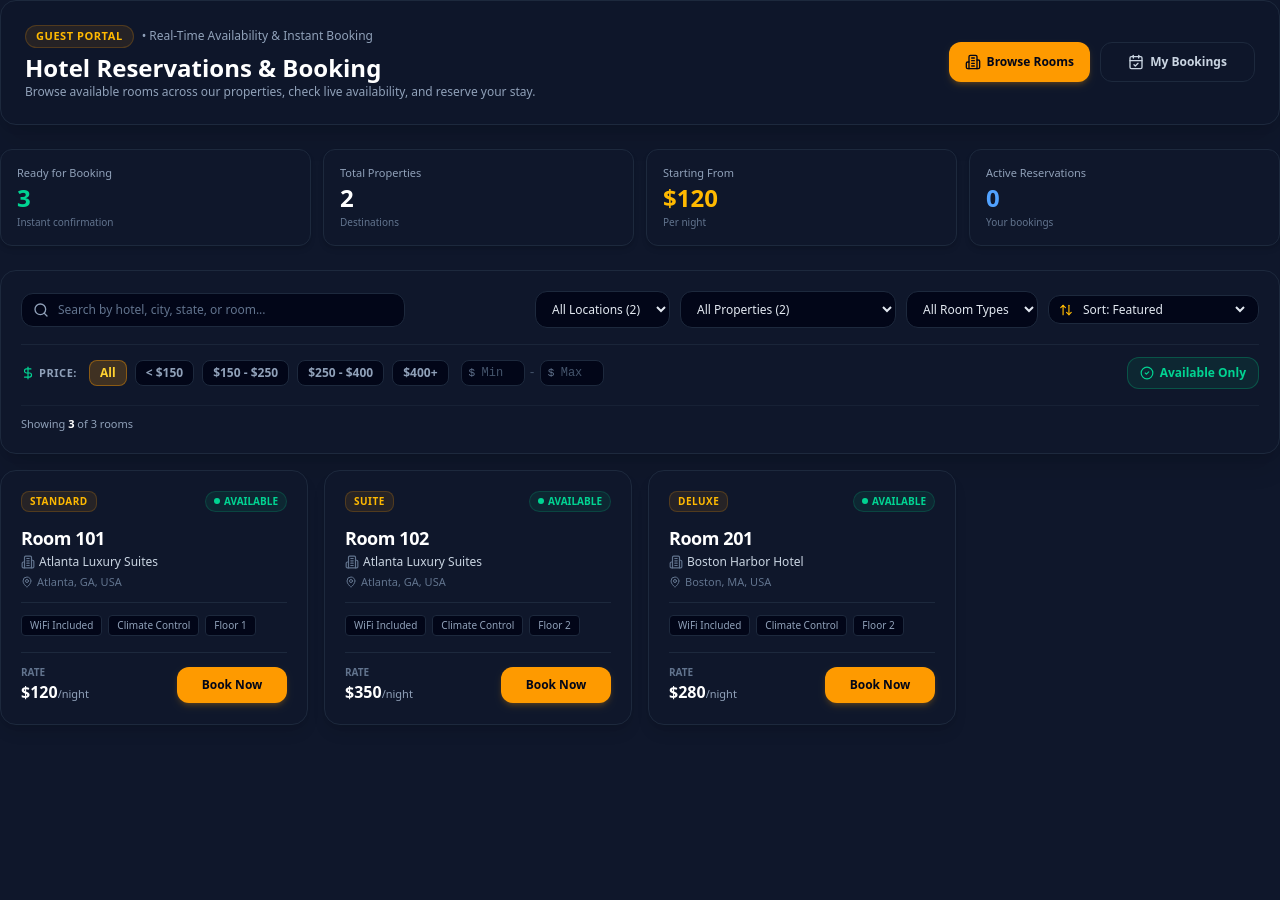
Scenario: GuestView Component Tests › filters rooms by price tier preset
Click the button "< $150".
click(164, 374)  # box [135,360,194,386]
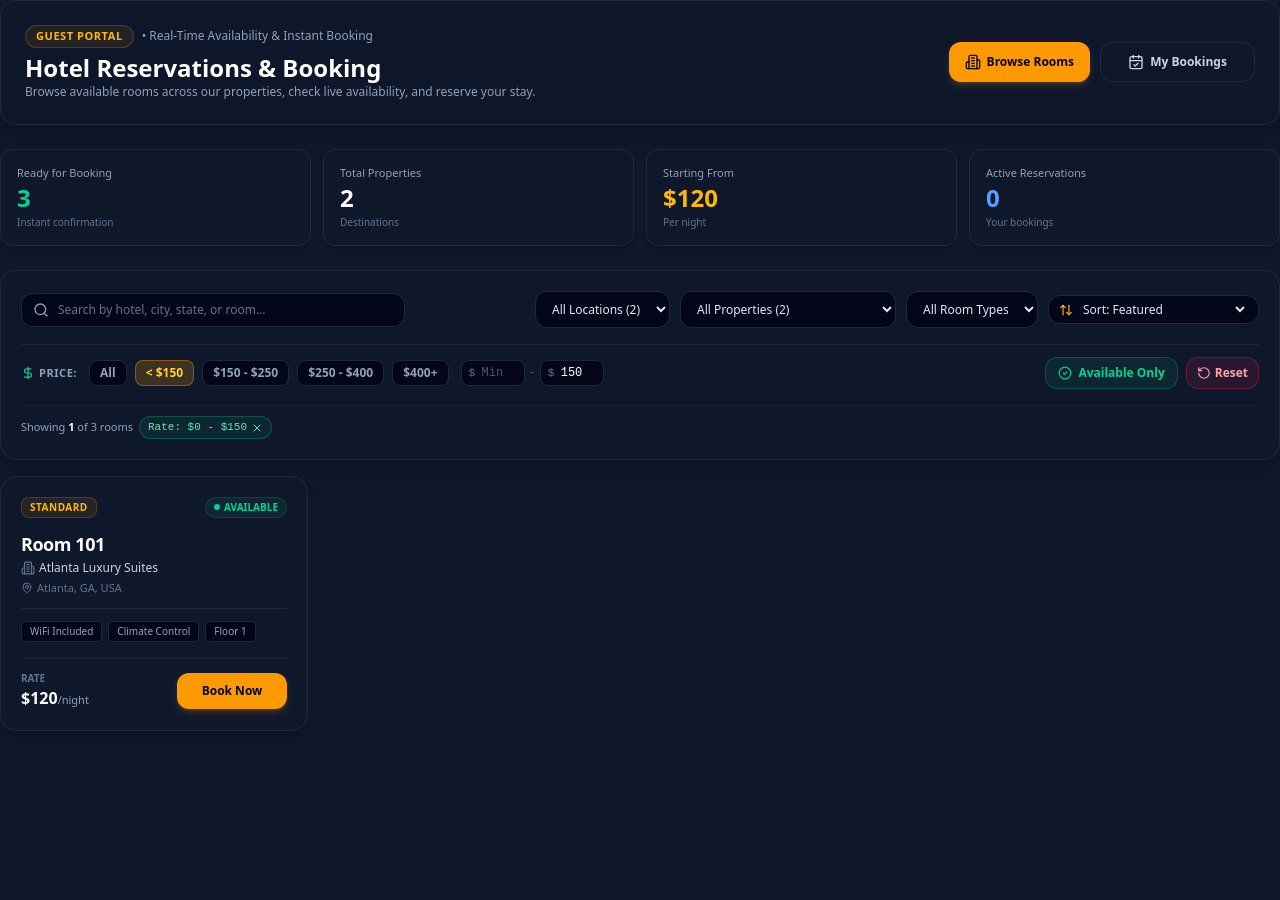
Expected: the heading "Room 101" is shown, [21,532,105,556]
Now the heading "Room 102" is gone
Now the heading "Room 201" is gone
